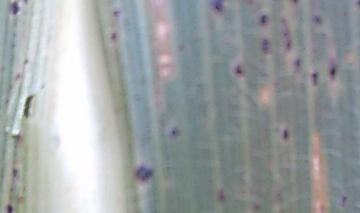tarspot: (276, 14, 294, 51), (21, 93, 37, 122), (133, 163, 155, 184), (260, 35, 273, 56), (8, 1, 21, 20), (308, 70, 321, 88), (256, 11, 270, 26), (215, 183, 226, 202), (327, 61, 337, 81), (211, 1, 226, 14), (232, 61, 244, 76), (169, 125, 179, 141), (310, 12, 322, 25), (292, 54, 302, 69), (338, 193, 347, 209), (10, 132, 22, 144), (4, 202, 15, 213), (281, 126, 289, 141), (10, 166, 19, 179), (251, 202, 261, 213), (38, 80, 47, 92), (178, 41, 186, 53), (110, 30, 118, 41), (21, 56, 30, 65), (111, 8, 121, 16), (12, 71, 22, 79), (288, 1, 301, 4), (356, 1, 360, 7), (21, 1, 27, 5)
